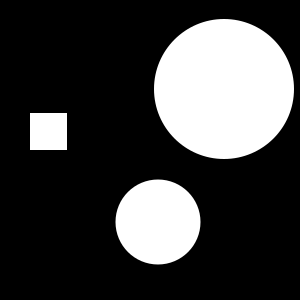circle: (30, 113, 67, 150)
rectangle: (154, 19, 294, 159), (115, 180, 200, 264), (177, 56, 235, 114)
